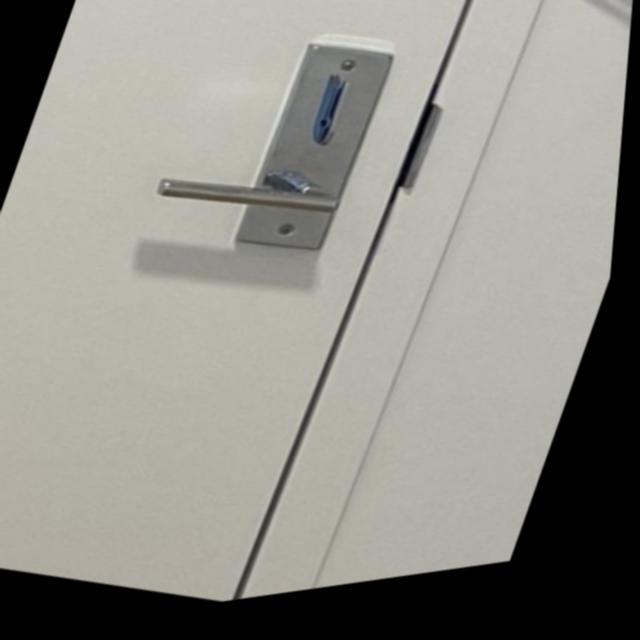door_handle: (141, 116, 388, 282)
